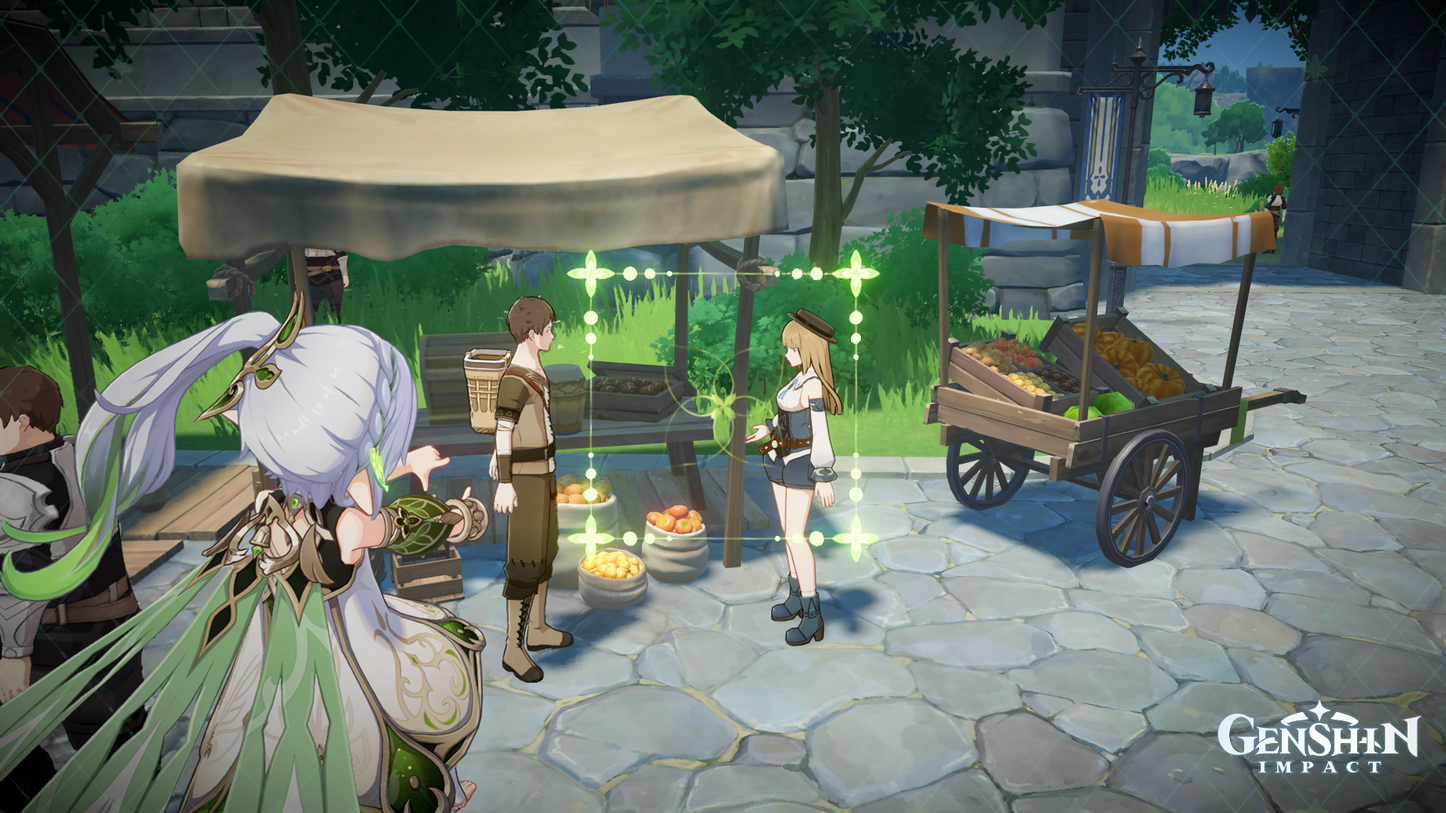Human: (5, 293, 507, 813), (459, 290, 580, 687), (742, 303, 843, 651)
Tree: (578, 4, 1042, 285), (0, 361, 144, 806), (1201, 96, 1272, 160)
